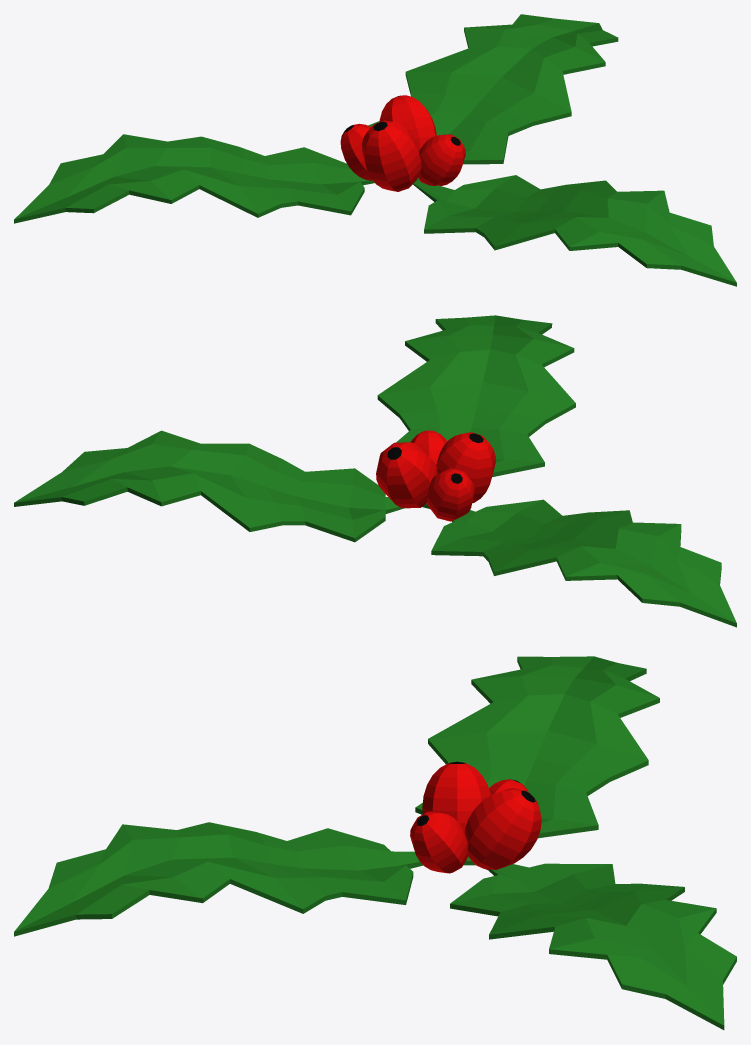
The model's file is Mistletoe.fbx.
3 renders of one model, top to bottom at view 1: azimuth 30°, elevation 25°; view 2: azimuth 150°, elevation 25°; view 3: azimuth 270°, elevation 25°, orthographic. The views are drawn at different scales.
Parts seen in each view (by area): view 1: MistleToe; view 2: MistleToe; view 3: MistleToe.
Part boxes in pixels (box(x1,y1,x2,y2)): MistleToe: box(14, 14, 736, 286); MistleToe: box(14, 315, 736, 627); MistleToe: box(14, 656, 736, 1029).
Size of the model in its own units: 76.94 by 8.41 by 63.65.
